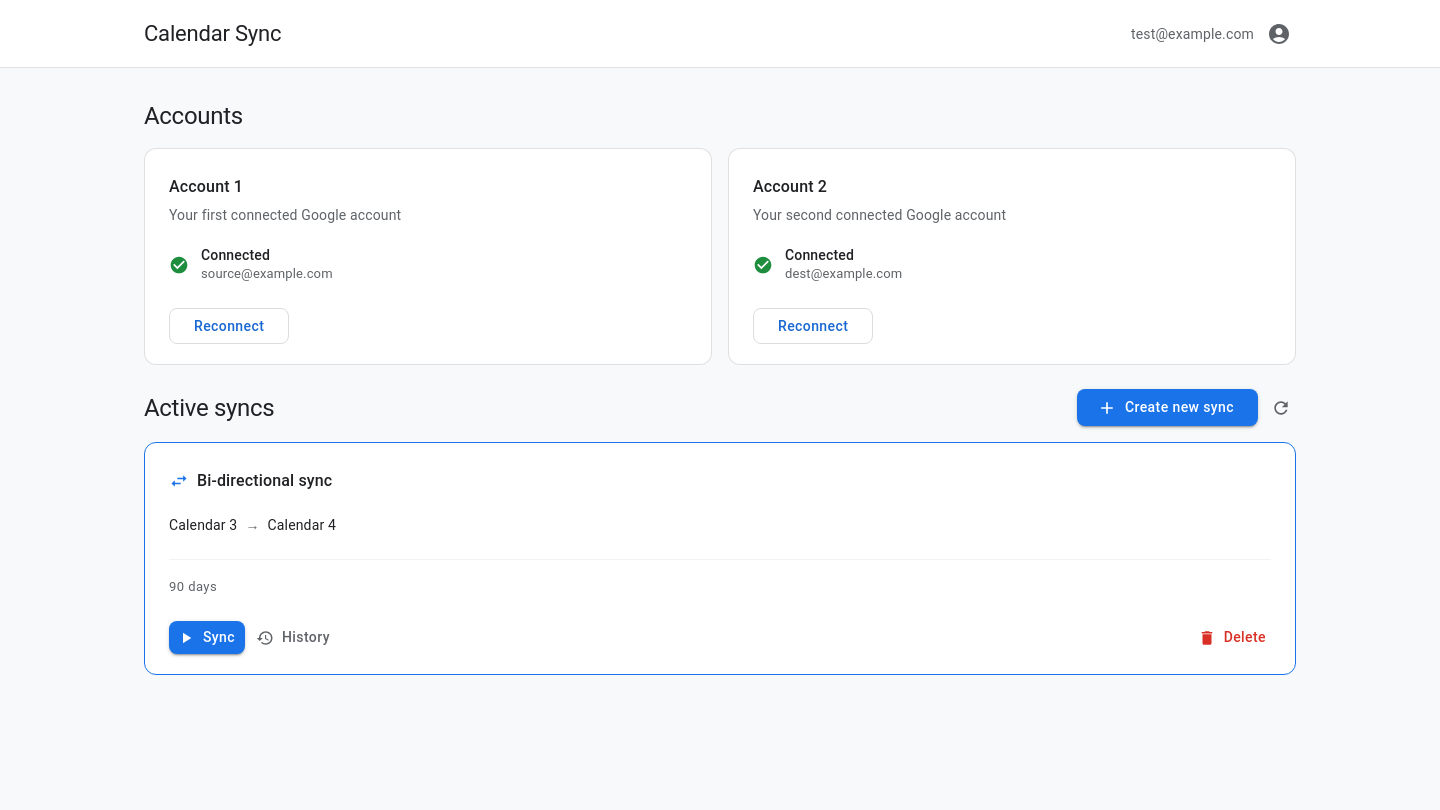
Scenario: Dashboard - Sync Deletion › Bi-directional sync deletion › should handle missing reverse config without error
The width and height of the screenshot is (1440, 810).
Expected: the heading "Bi-directional sync" is shown, [197, 467, 332, 495]
Click the button "Delete" at {"x": 1233, "y": 638}, box [1195, 621, 1271, 654]
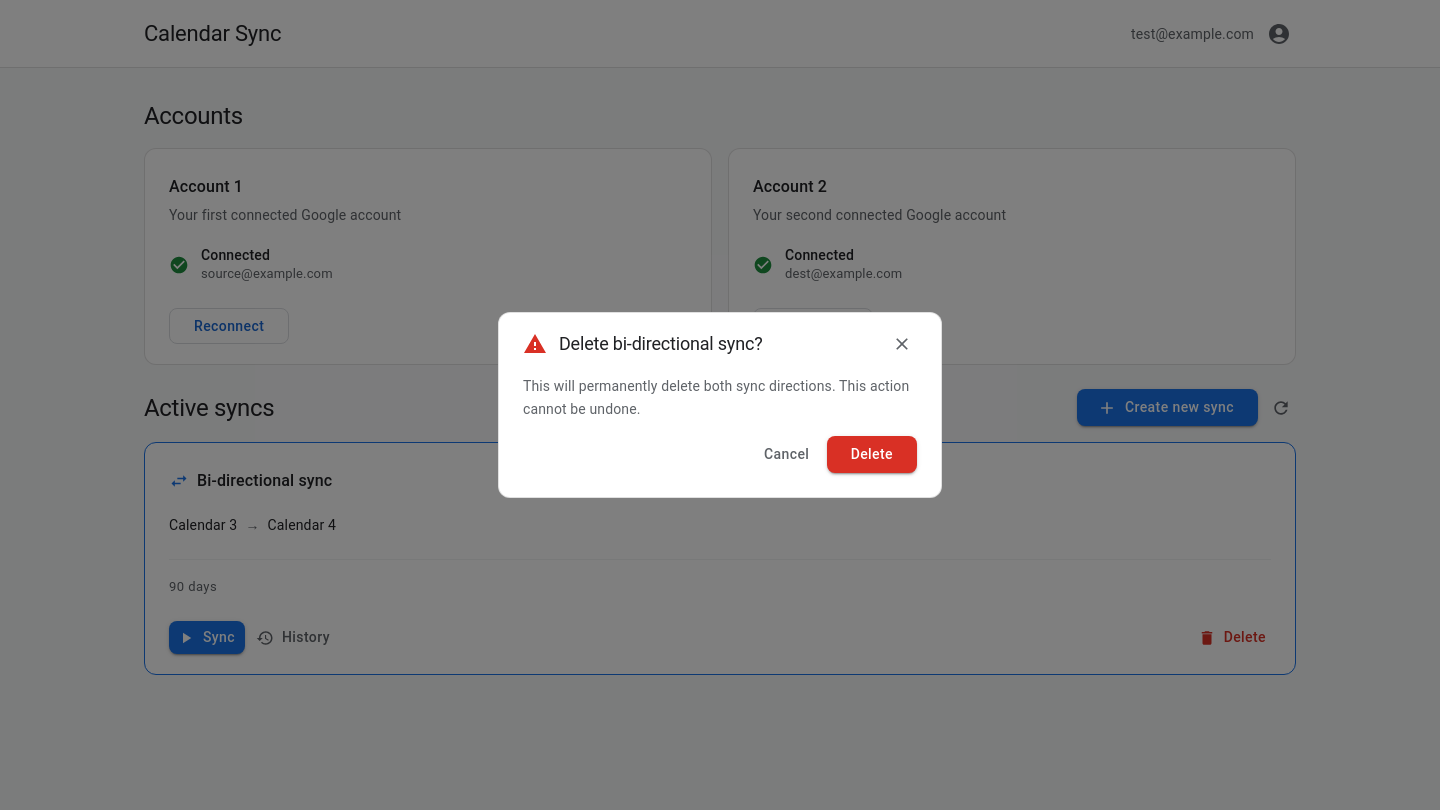
Click the button "Delete" at {"x": 872, "y": 454}, box [827, 436, 917, 473]
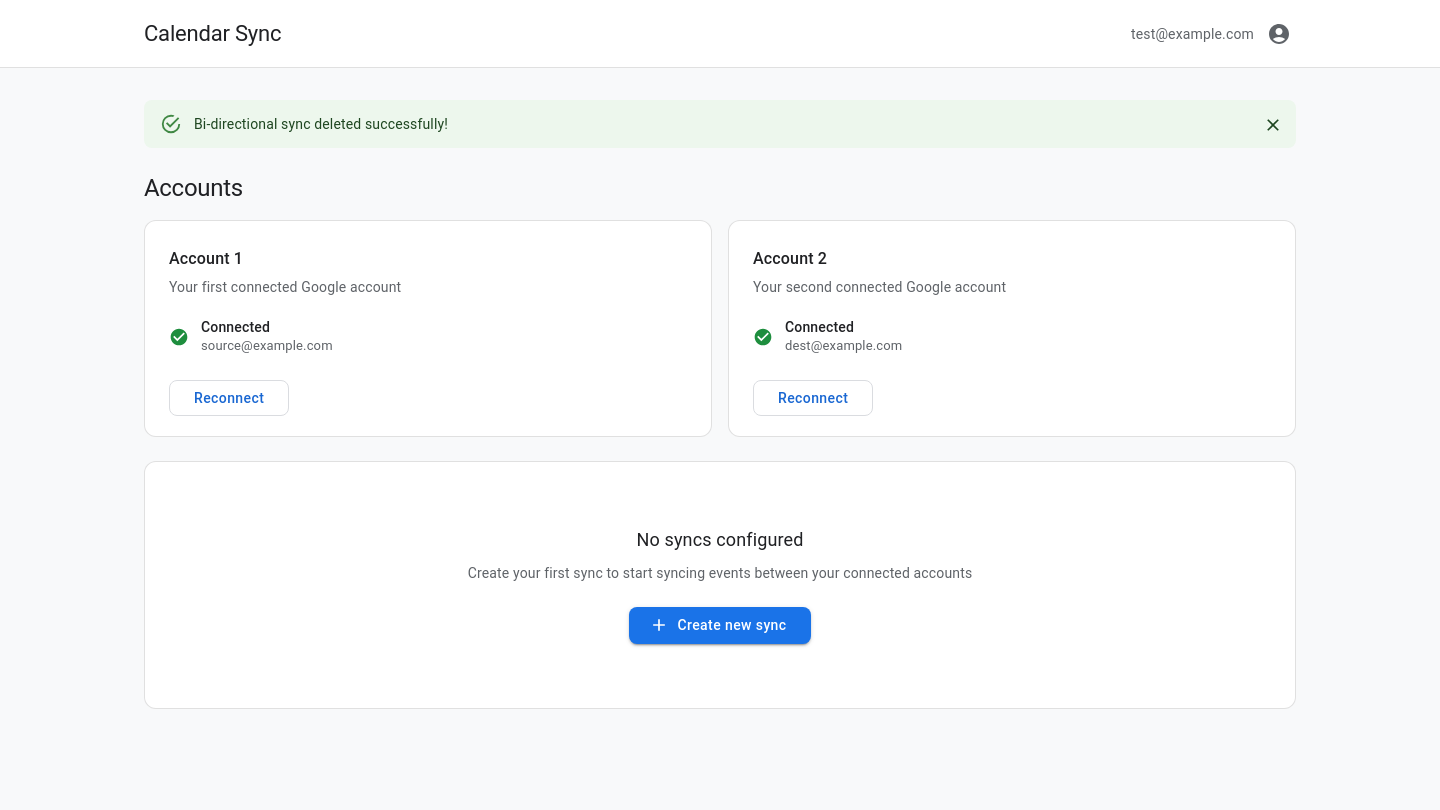
Expected: the heading "Active syncs" is gone
